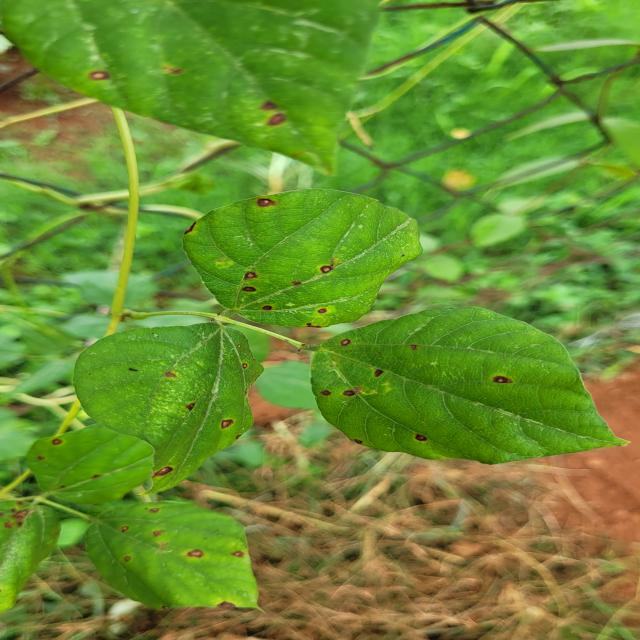Dolicos bean_cercospora leaf spot: (309, 308, 636, 465), (76, 322, 266, 497), (192, 188, 427, 327), (85, 502, 261, 609), (23, 423, 175, 502)
